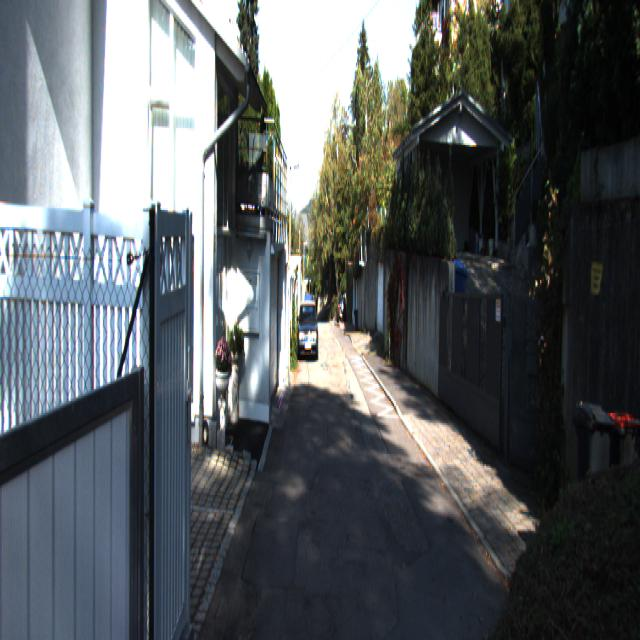Car: (297, 298, 318, 361)
